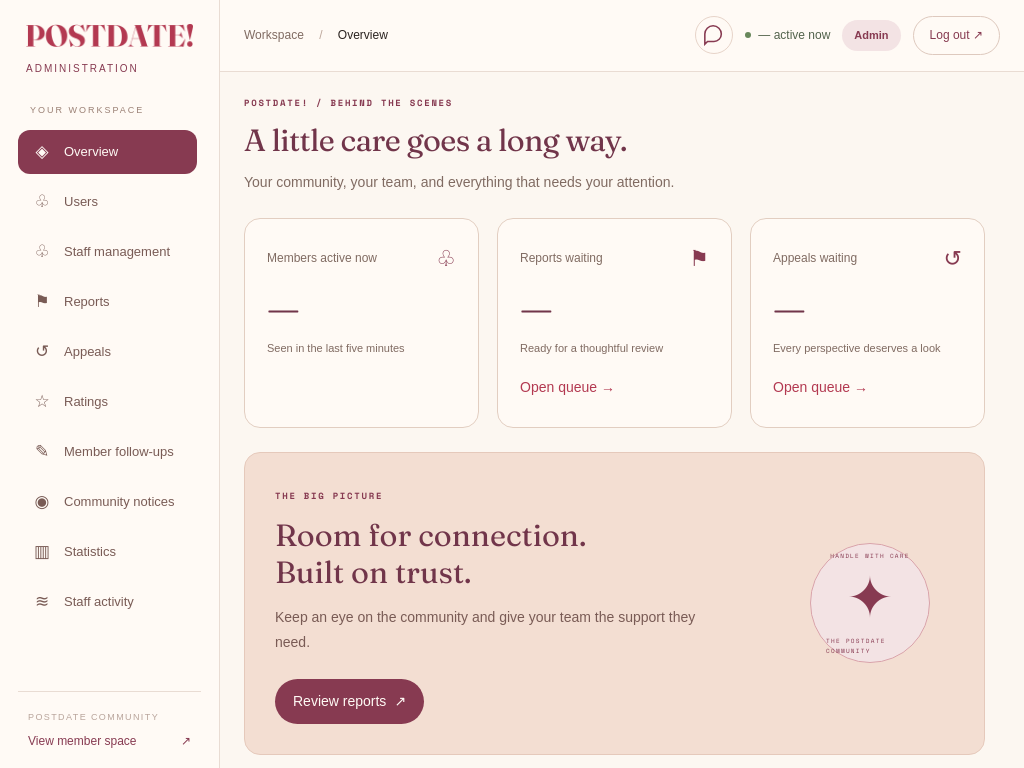
Scenario: admin overview opens the live report queue
This screenshot has width=1024, height=768.
Expected: the button "≋ Staff activity" is shown, top-left (18, 580), bottom-right (197, 624)
Click the button "Review reports ↗": (350, 702) top-left (275, 679), bottom-right (424, 724)
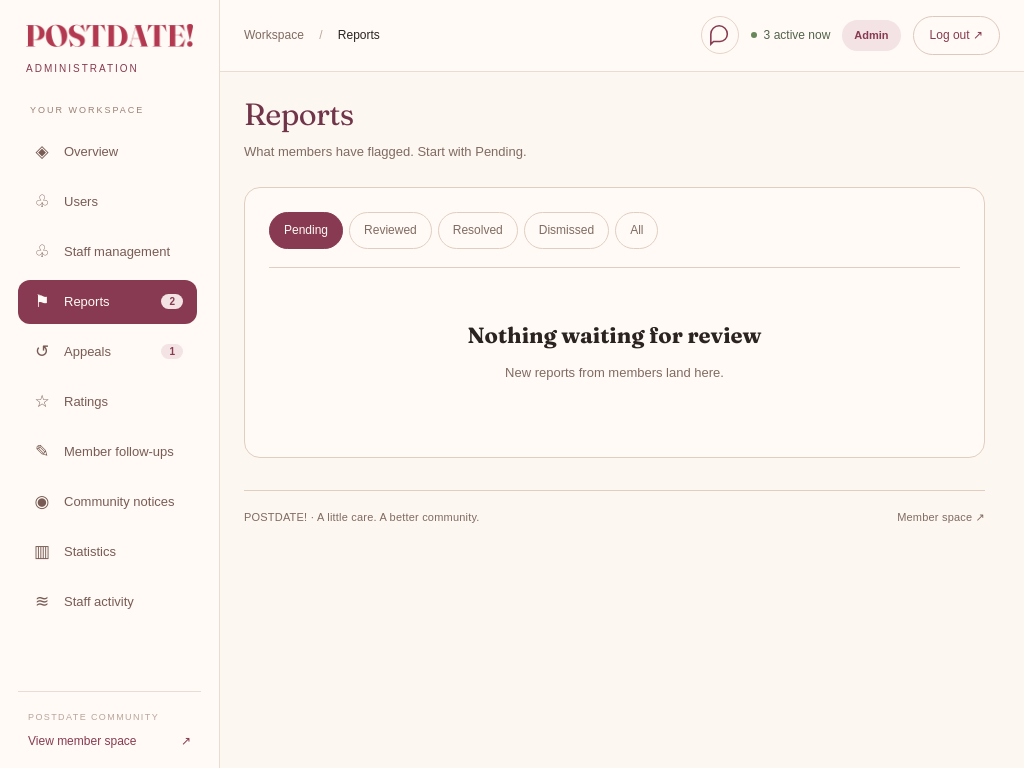
Result: the heading "Reports" is shown at top-left (244, 95), bottom-right (354, 133)
